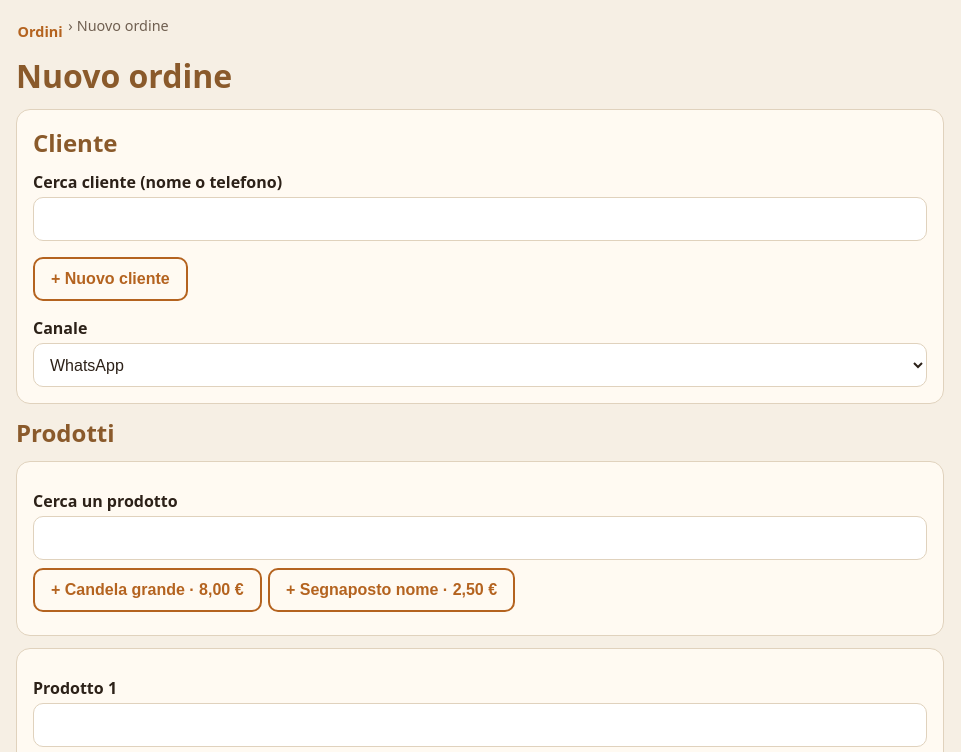
it: un prodotto con testo personalizzato resta una riga a parte
Click the button "+ Candela grande · 8,00 €" at coordinates (147, 590), box [33,568,262,612]
(page scrolled)
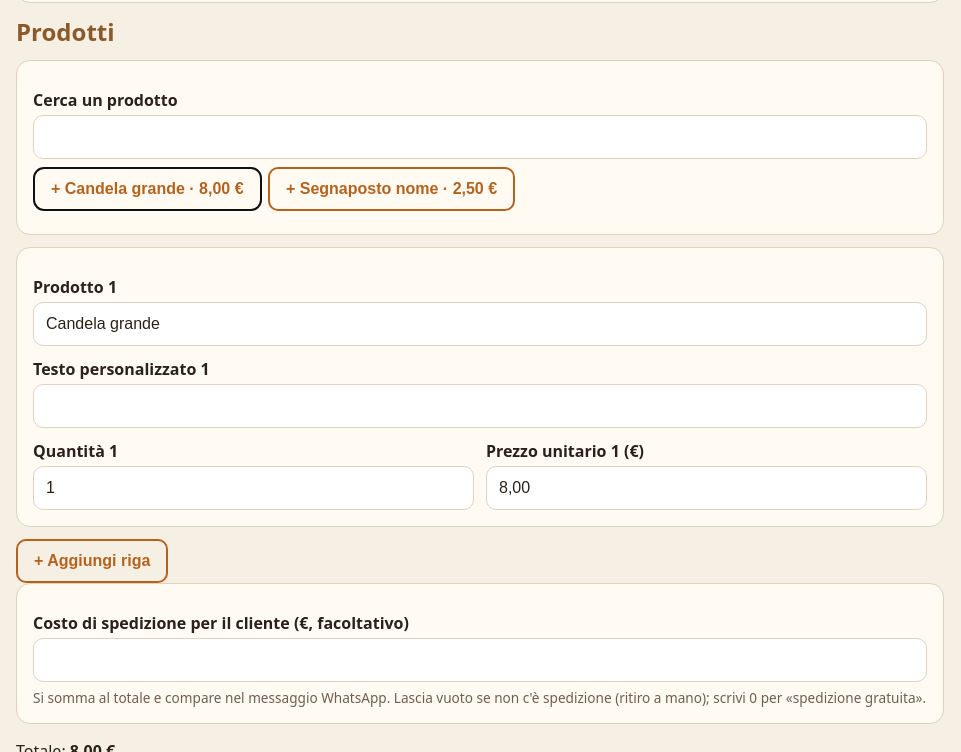
Type "Mario" into the field labelled "Testo personalizzato 1" at coordinates (480, 406), box [33,384,927,428]
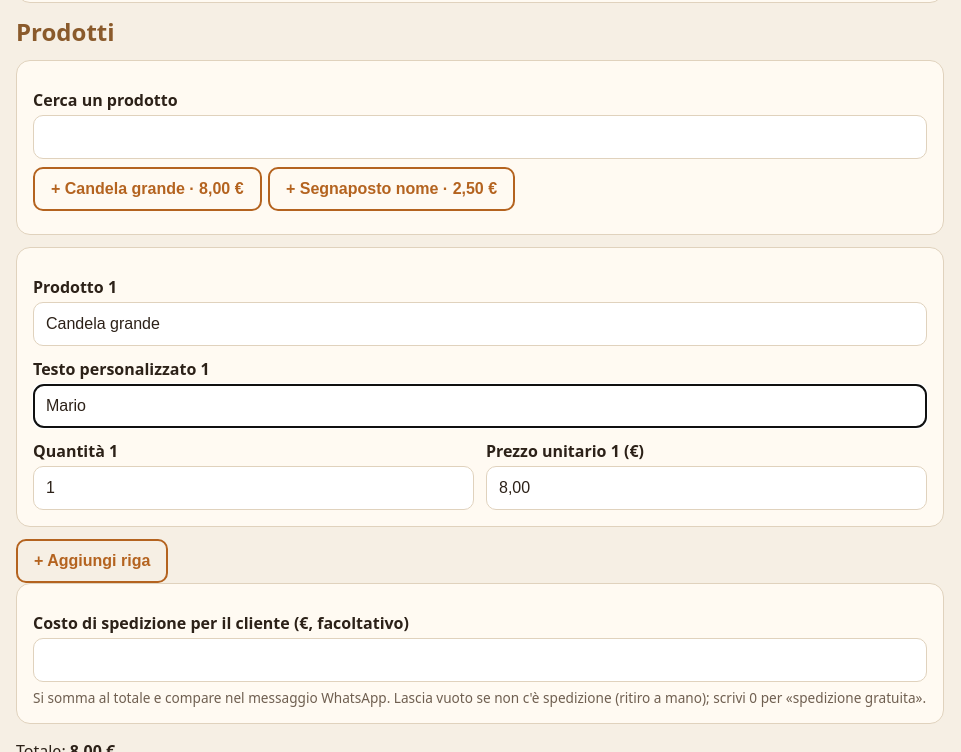
Click the button "+ Candela grande · 8,00 €" at coordinates (147, 189), box [33,167,262,211]
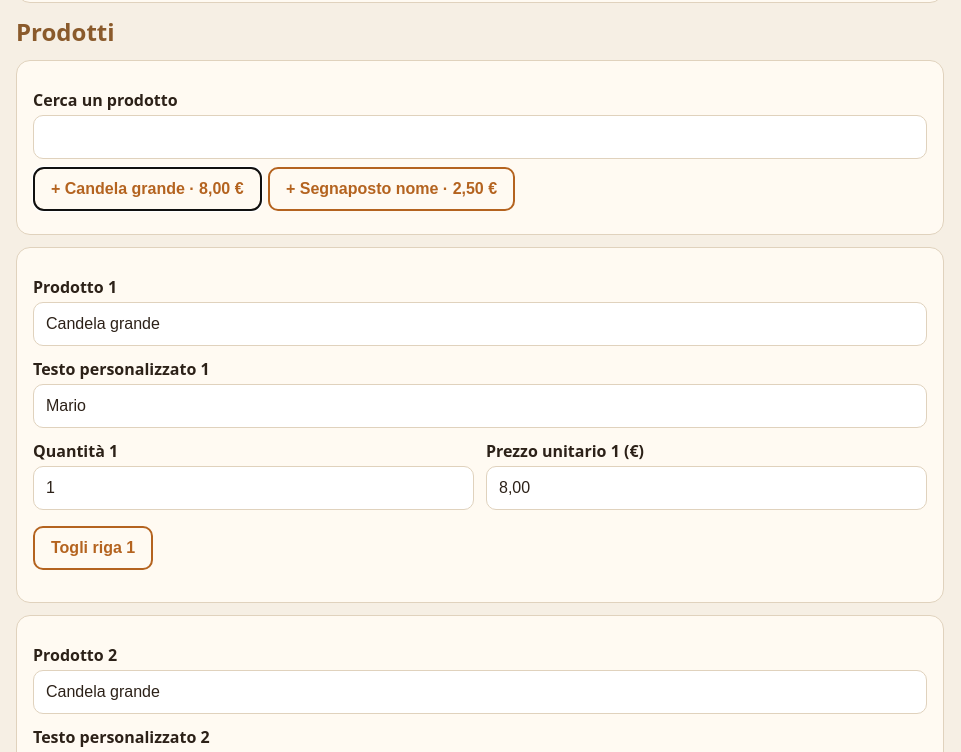
Check: the field labelled "Quantità 1" holds "1", box [33,466,474,510]
Check: the field labelled "Prodotto 2" holds "Candela grande", box [33,670,927,714]
